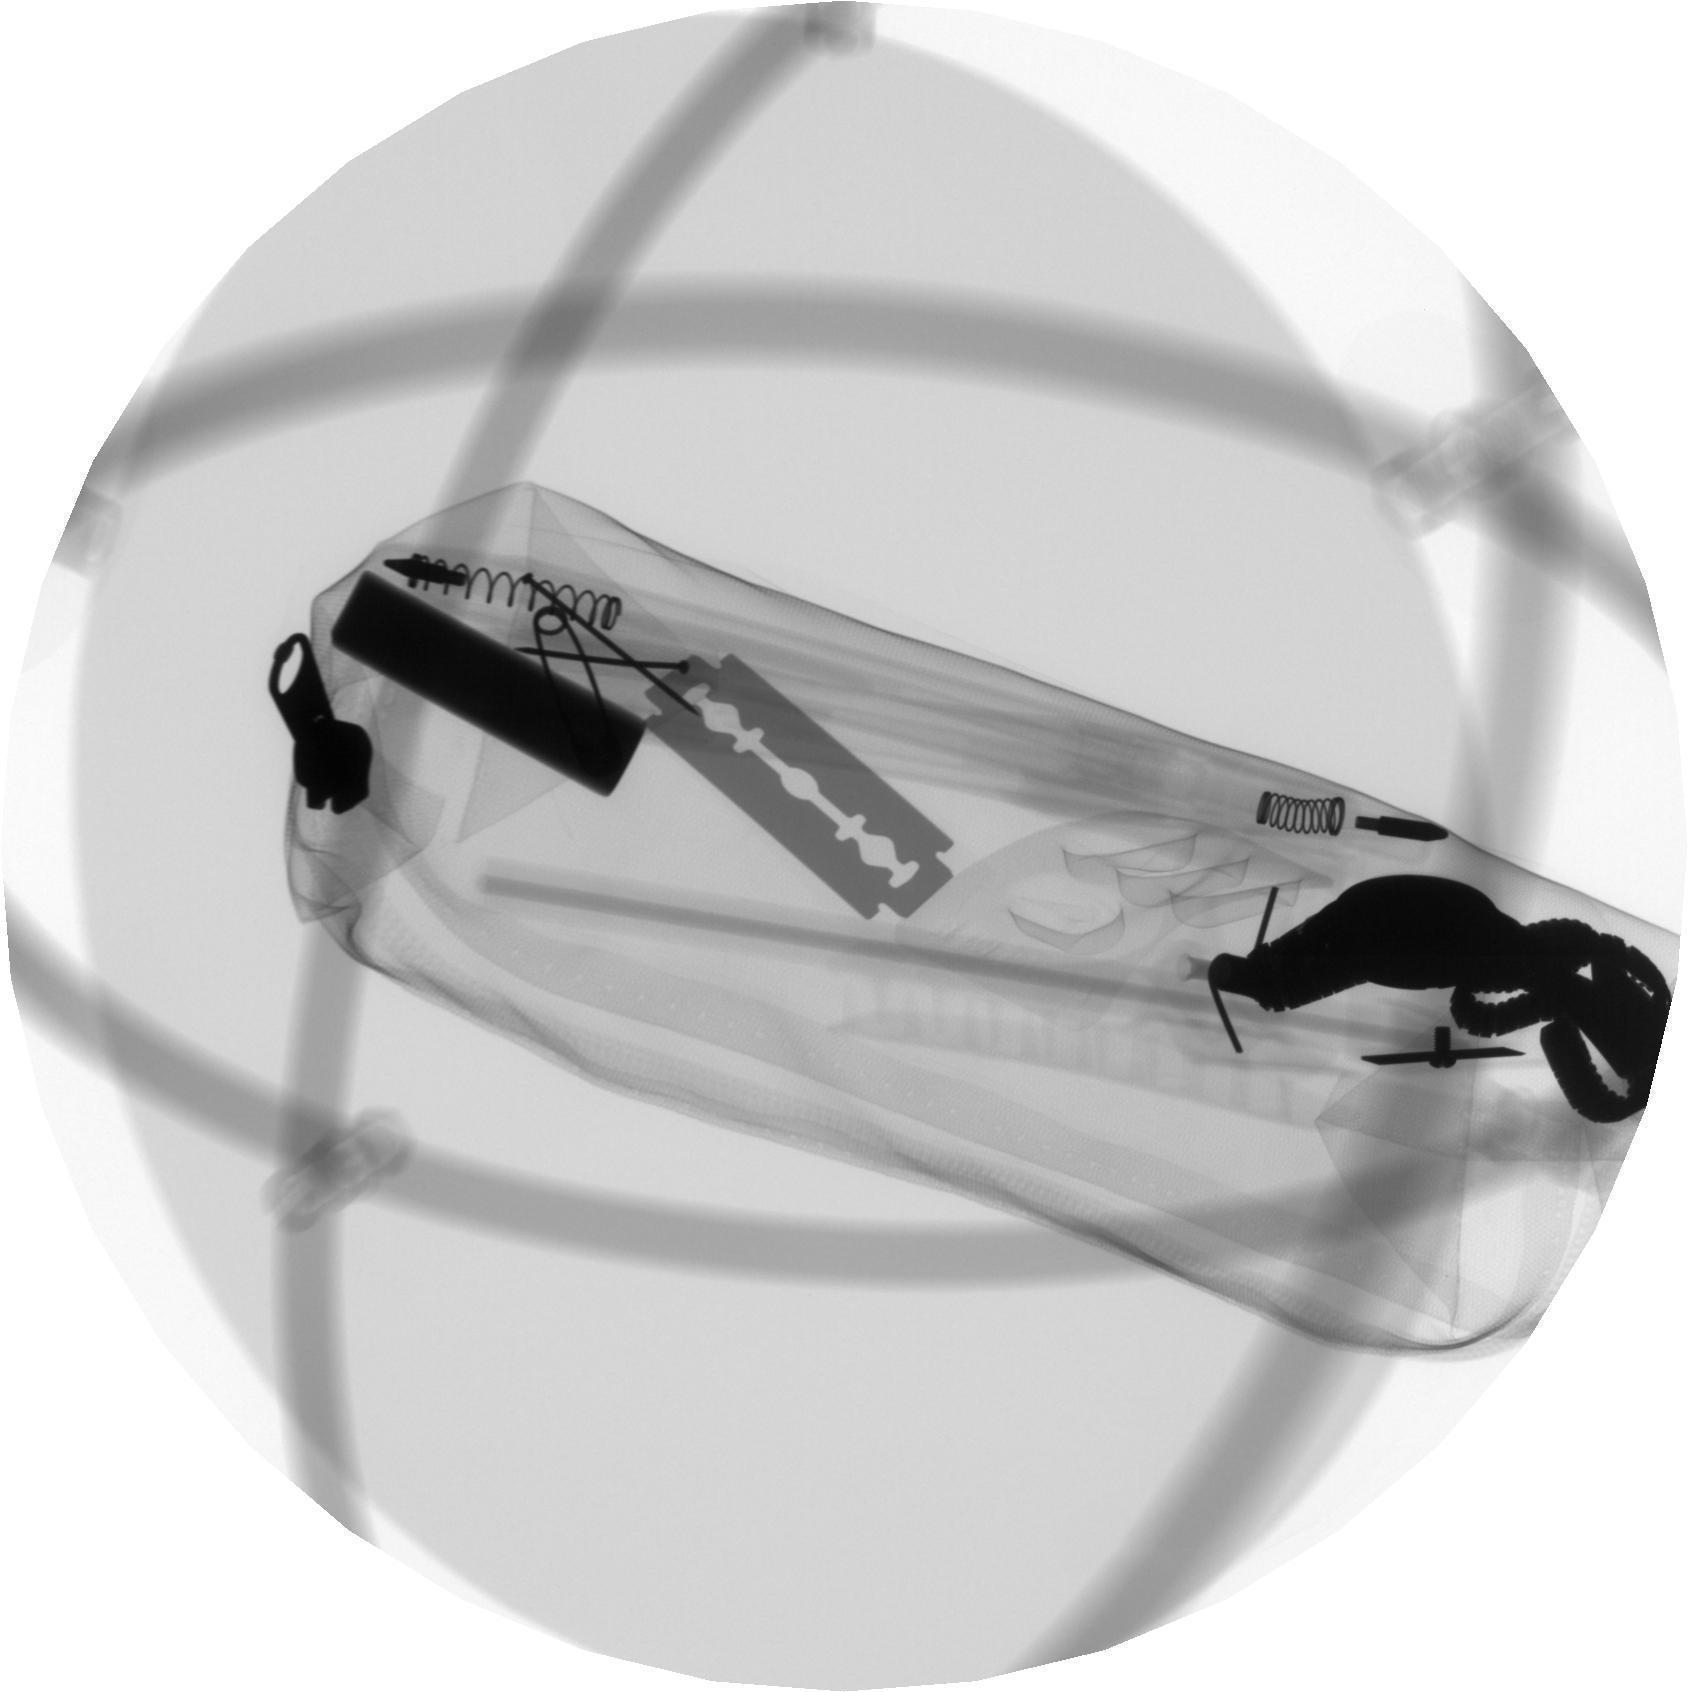RazorBlade: (640, 647, 985, 949)
